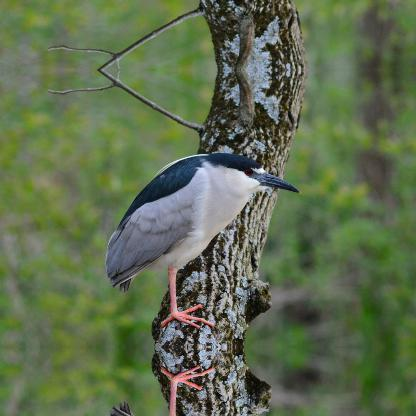Bird: (104, 151, 306, 337), (103, 355, 307, 415)
